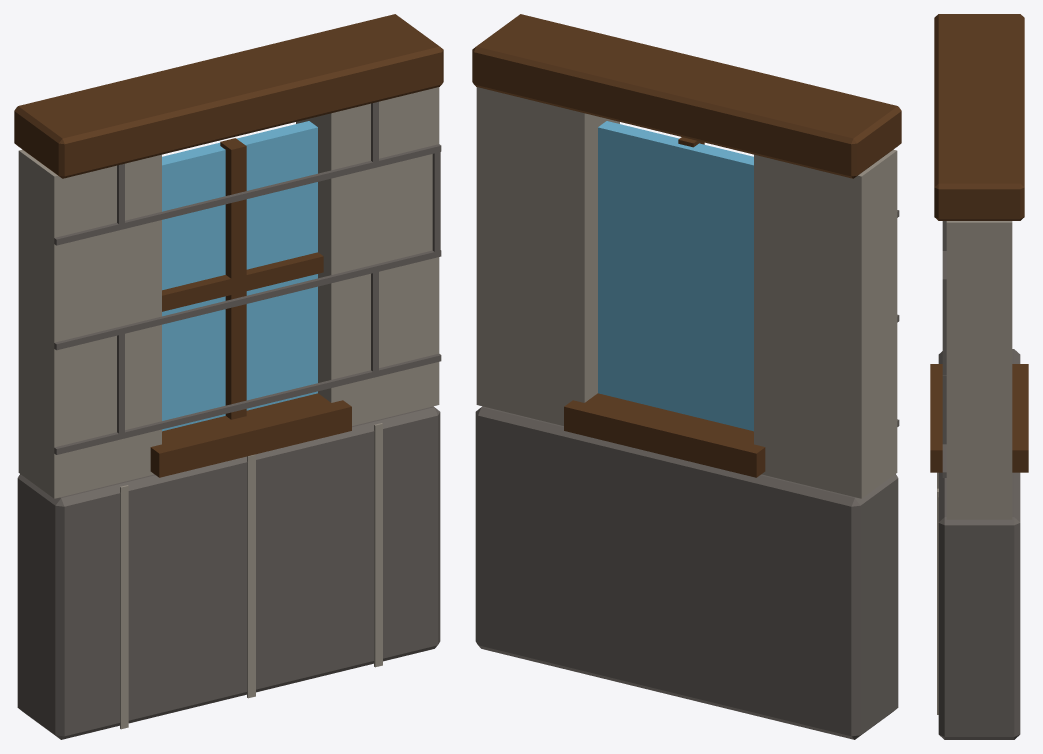
The model's file is PR_Building_Pencere_Tas.fbx.
3 renders of one model, left to right at view 1: azimuth 30°, elevation 25°; view 2: azimuth 150°, elevation 25°; view 3: azimuth 270°, elevation 25°, orthographic. The views are drawn at different scales.
Visible parts, largest first — view 1: PR_Building_Pencere_Tas; view 2: PR_Building_Pencere_Tas; view 3: PR_Building_Pencere_Tas.
Boxes of the visible parts, left/top/right/bottom form: PR_Building_Pencere_Tas: left=14, top=14, right=443, bottom=739; PR_Building_Pencere_Tas: left=472, top=14, right=901, bottom=739; PR_Building_Pencere_Tas: left=930, top=14, right=1028, bottom=739.
Bounding box in the file's own units: 1 × 1.5 × 0.24.
Materials: 1 (1 with a texture image).
